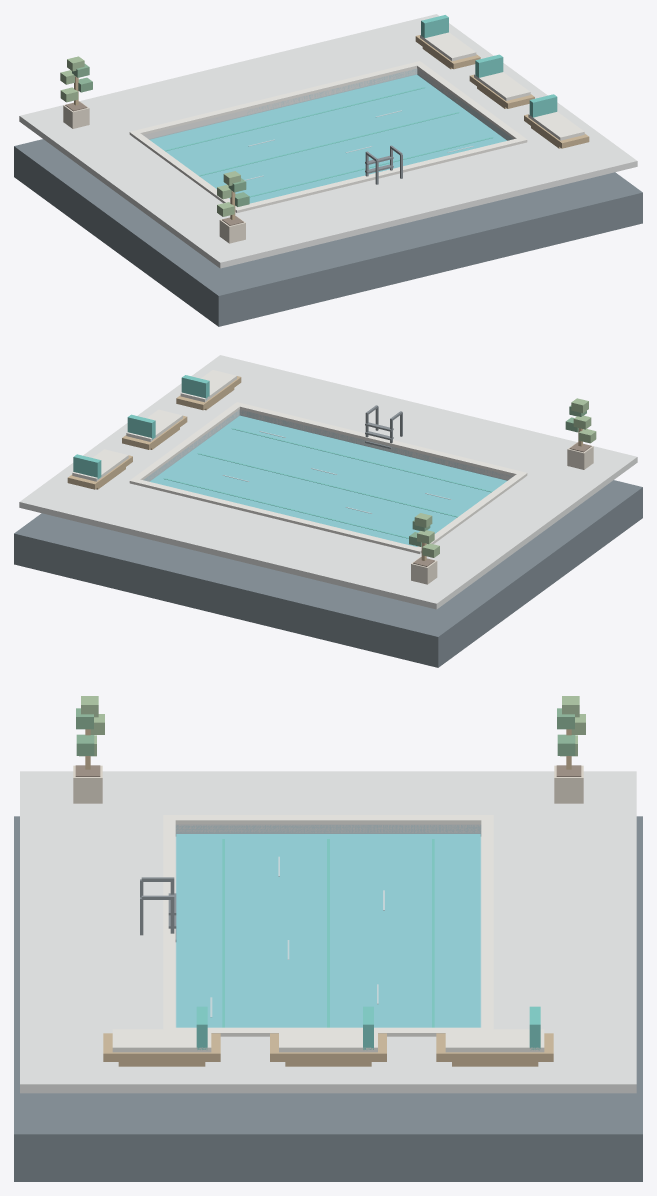
Rendered from swimming_pool.glb.
3 views of the same model, one above another, from view 1: azimuth 30°, elevation 25°; view 2: azimuth 150°, elevation 25°; view 3: azimuth 270°, elevation 25° (orthographic). The views are drawn at different scales.
Parts seen in each view (by area): view 1: pool_foundation_1, pool_water_15, deck_end_10, deck_end_9, deck_side_7, deck_side_8, pool_coping_13, pool_coping_14, basin_end_wall_5, pool_coping_12, pool_coping_11, lounger_cushion_35 (+13 smaller); view 2: pool_foundation_1, pool_water_15, deck_end_9, deck_side_7, deck_end_10, deck_side_8, pool_coping_13, pool_coping_14, basin_end_wall_6, pool_coping_12, pool_coping_11, lounger_cushion_45 (+14 smaller); view 3: pool_foundation_1, pool_water_15, deck_side_7, deck_end_9, deck_end_10, deck_side_8, pool_coping_11, pool_coping_13, basin_side_wall_3, pool_coping_14, lounger_cushion_35, lounger_cushion_45 (+7 smaller).
Part boxes in pixels (box(x1,y1,x2,y2)): pool_foundation_1: box(14, 139, 642, 326); pool_water_15: box(150, 74, 506, 203); deck_end_10: box(243, 144, 567, 251); deck_end_9: box(89, 31, 416, 138); deck_side_7: box(19, 99, 289, 268); deck_side_8: box(367, 14, 637, 183); pool_coping_13: box(129, 61, 420, 134); pool_coping_14: box(235, 137, 527, 212); basin_end_wall_5: box(148, 69, 417, 139); pool_coping_12: box(415, 62, 524, 140); pool_coping_11: box(130, 131, 241, 212); lounger_cushion_35: box(420, 32, 476, 61); pool_foundation_1: box(14, 480, 642, 667); pool_water_15: box(150, 415, 506, 546); deck_end_9: box(89, 485, 413, 592); deck_side_7: box(367, 440, 637, 609); deck_end_10: box(239, 372, 567, 479); deck_side_8: box(19, 355, 289, 524); pool_coping_13: box(129, 478, 421, 553); pool_coping_14: box(235, 402, 527, 475); basin_end_wall_6: box(239, 410, 512, 480); pool_coping_12: box(132, 403, 241, 481); pool_coping_11: box(414, 472, 526, 553); lounger_cushion_45: box(180, 370, 236, 402); pool_foundation_1: box(14, 816, 642, 1181); pool_water_15: box(176, 834, 480, 1027); deck_side_7: box(20, 771, 636, 832); deck_end_9: box(493, 823, 636, 1031); deck_end_10: box(20, 823, 163, 1031); deck_side_8: box(20, 1032, 636, 1093); pool_coping_11: box(167, 815, 489, 823); pool_coping_13: box(481, 815, 493, 1029); basin_side_wall_3: box(175, 825, 481, 836); pool_coping_14: box(163, 815, 175, 1029); lounger_cushion_35: box(445, 1029, 544, 1052); lounger_cushion_45: box(112, 1029, 211, 1052).
Size of the model in its own units: 12.2 by 3.44 by 10.2.
